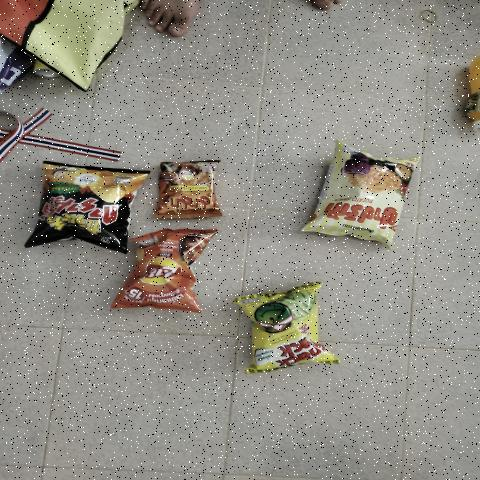karamujo: (39, 178, 136, 237)
mama: (165, 162, 212, 214)
paprika: (337, 157, 387, 238)
snack_jack: (260, 292, 311, 369)
